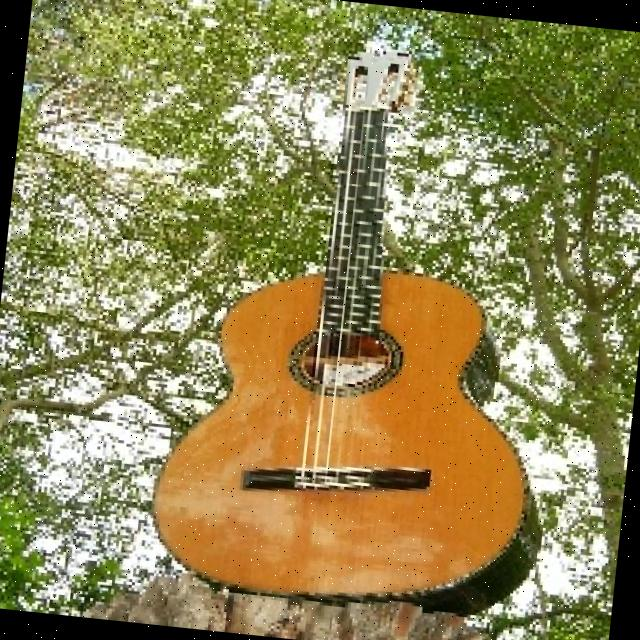guitar: (140, 24, 596, 630)
